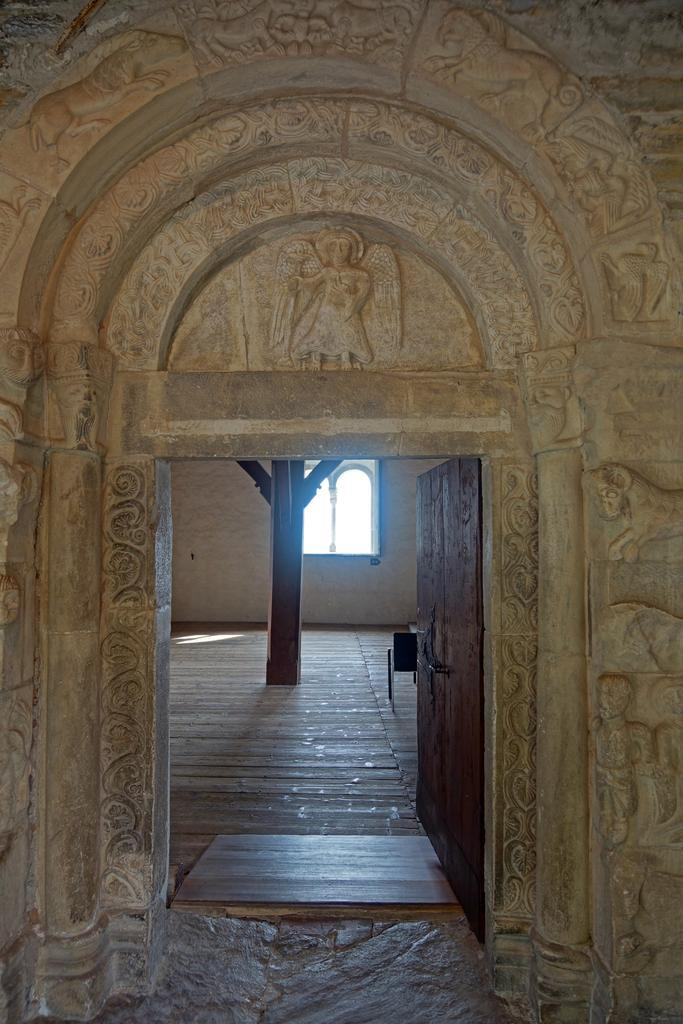door: (412, 475, 474, 858)
handle: (422, 622, 442, 676)
